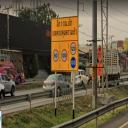speed_limit_100: (60, 46, 68, 64)
speed_limit_120: (70, 41, 77, 57)
speed_limit_80: (52, 47, 59, 65)
